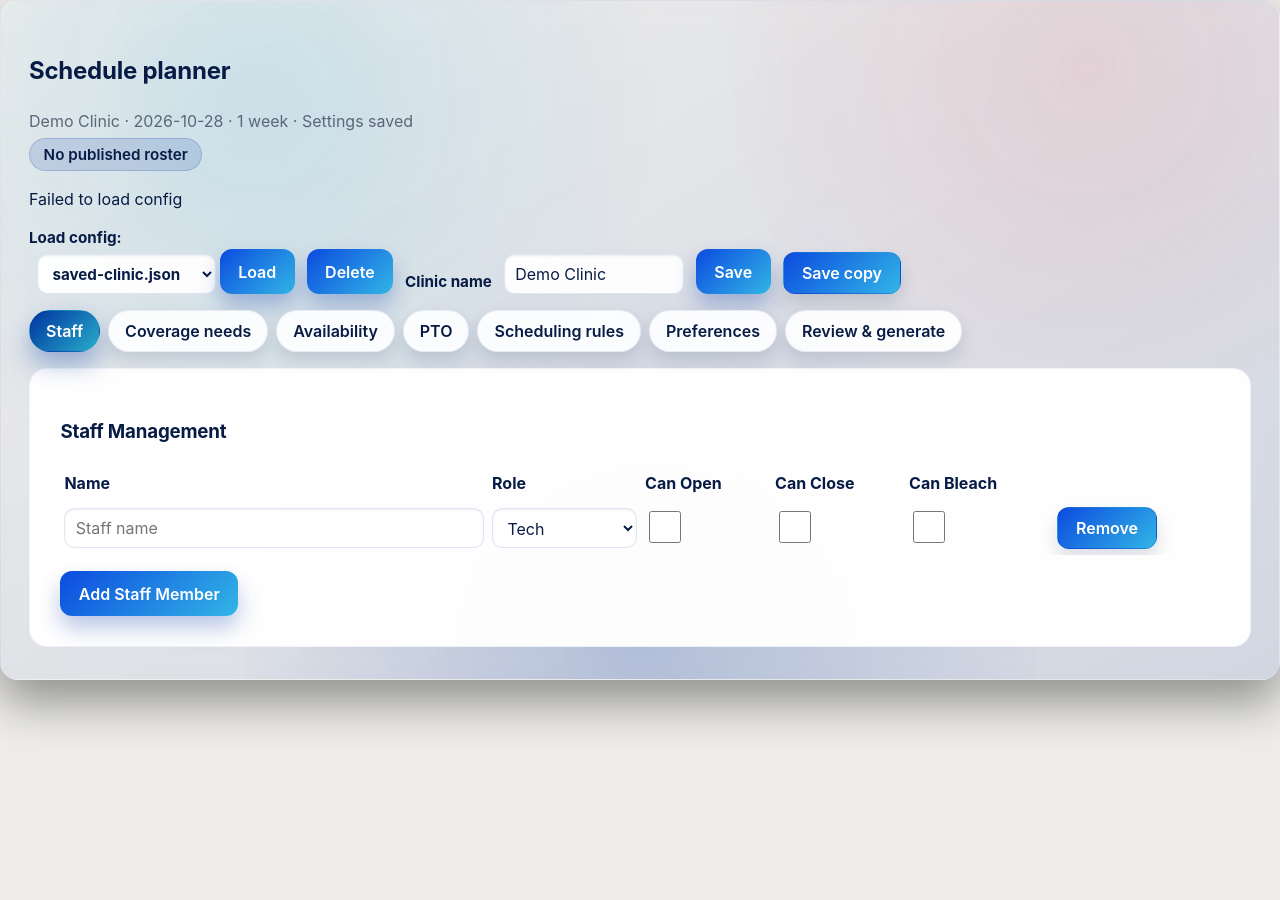
Test: clears an earlier load failure when retry successfully loads the saved staff
This screenshot has width=1280, height=900.
Expected: the text "Failed to load config" is shown, [29,189,182,209]
Click the button "Load" at (257, 272), box [220,249,295,294]
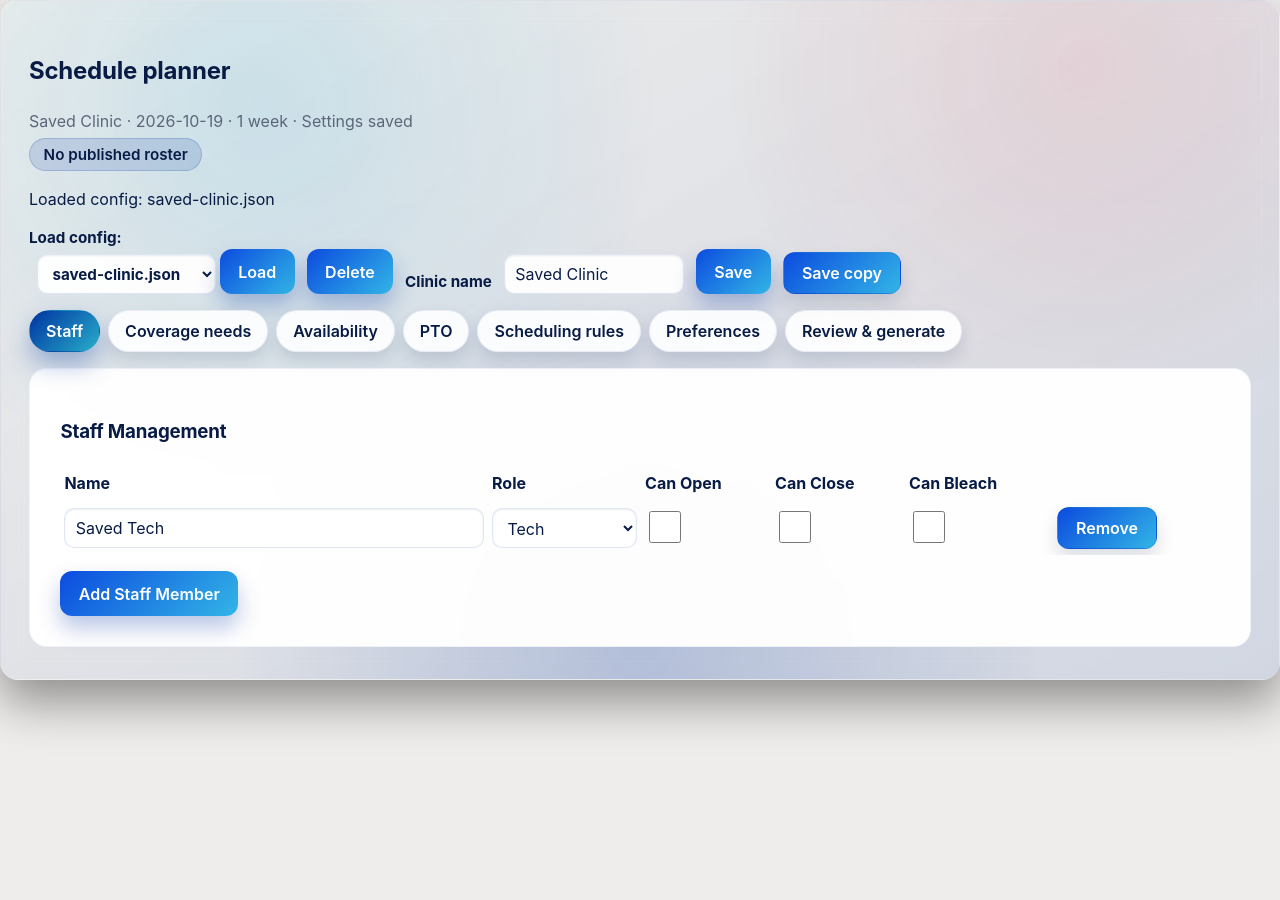
Now the text "Loaded config: saved-clinic.json" is shown, box [29,189,275,209]
Now the text "Failed to load config" is gone
Now the field showing "Saved Tech" is shown, box [64,508,484,548]
